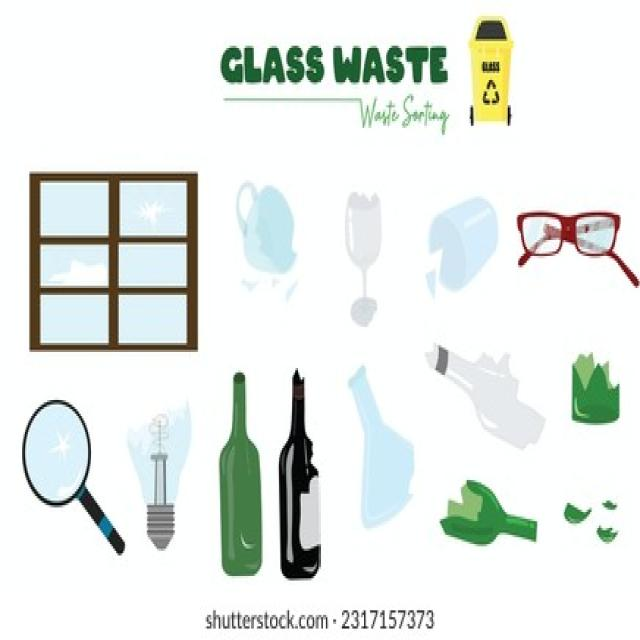glass: (217, 380, 270, 594)
